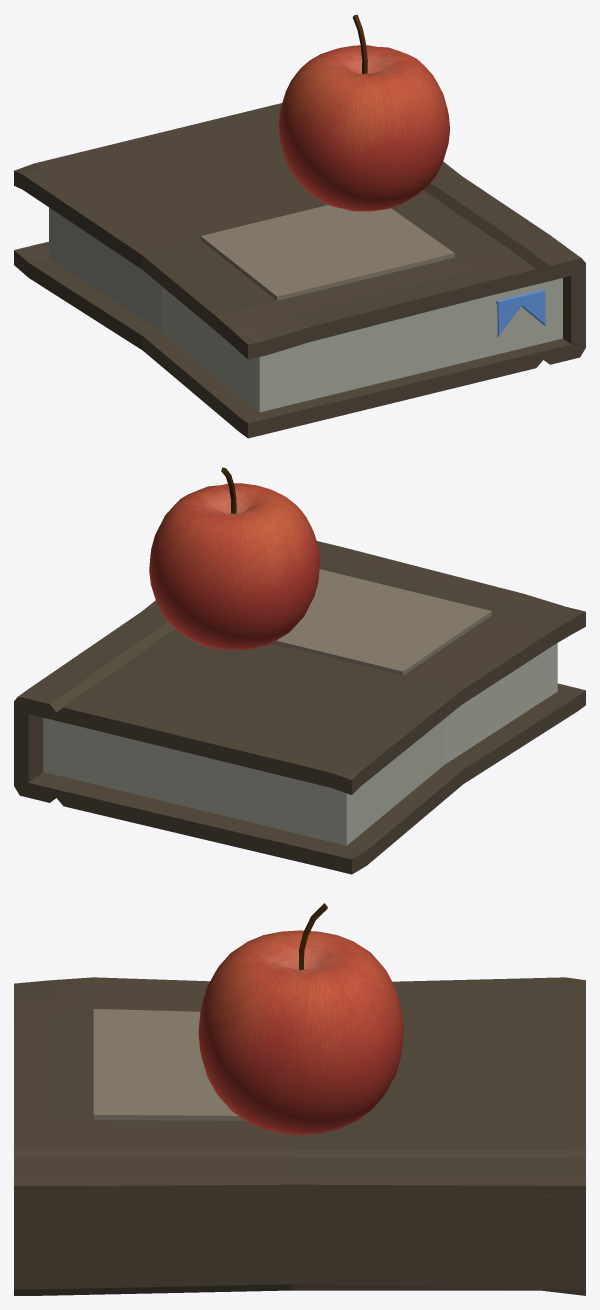
Rendered from Book and apple.fbx.
3 renders of one model, top to bottom at view 1: azimuth 30°, elevation 25°; view 2: azimuth 150°, elevation 25°; view 3: azimuth 270°, elevation 25°, orthographic. The views are drawn at different scales.
Parts seen in each view (by area): view 1: Plane.400_Material.044_0, Object_9.001; view 2: Plane.400_Material.044_0, Object_9.001; view 3: Plane.400_Material.044_0, Object_9.001.
Boxes of the visible parts, x1,y1,x2,y2 form: Plane.400_Material.044_0: (14,103,585,438); Object_9.001: (278,14,449,211); Plane.400_Material.044_0: (14,541,585,874); Object_9.001: (149,467,320,649); Plane.400_Material.044_0: (14,977,585,1295); Object_9.001: (198,903,403,1135).
Bounding box in the file's own units: 35.99 × 27.82 × 43.19.
Materials: 5 (1 with a texture image).
